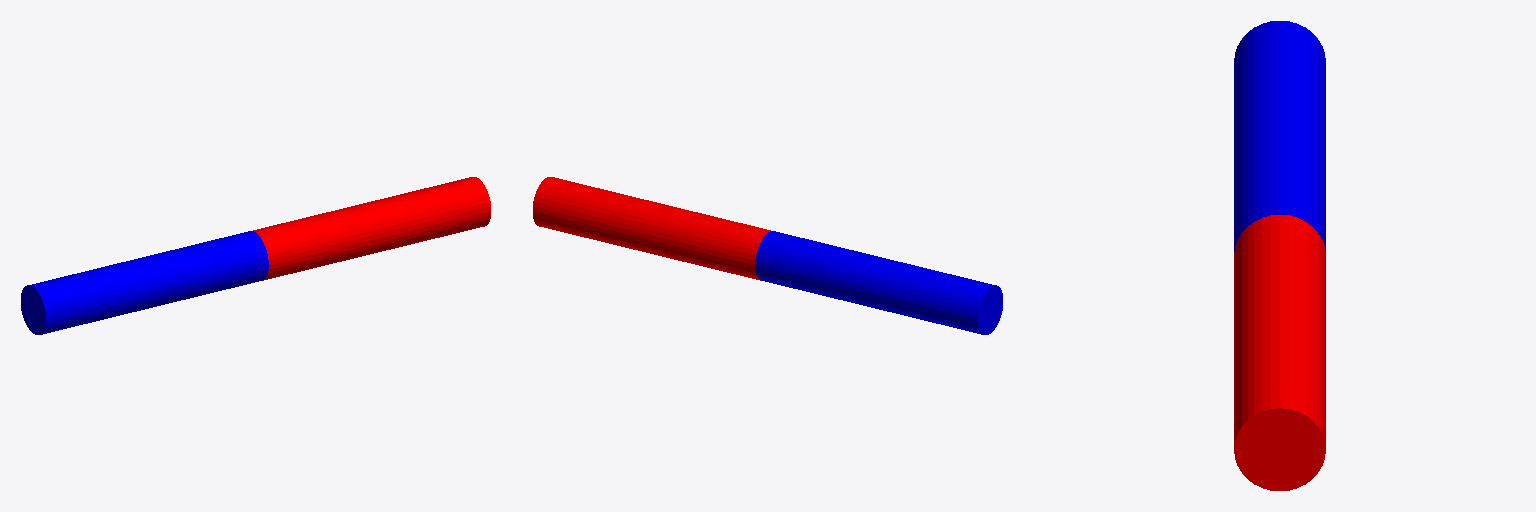
URDF robot description (ball):
<?xml version="1.0"?> 
<robot name="ball">
    <!-- Colors --> 
    <material name="black"> 
        <color rgba="0 0 0 1"/>
    </material>

    <material name="red">
        <color rgba="1 0 0 1"/>
    </material>

    <material name="blue">
        <color rgba="0 0 1 1"/>
    </material>


    <!-- Base Link  of Car --> 
    <link name="base_link">
        <visual> 
            <geometry> 
                <cylinder length="5.0" radius="0.5"/>
            </geometry>
            <origin rpy="0 1.57 0" xyz="-2.5 0 0"/>
            <material name="blue"/>
        </visual>
    </link>

    <link name="child_link1">
        <visual>
            <geometry>
                <cylinder length="5.0" radius="0.5"/>
            </geometry>
            <origin rpy="0 1.57 0" xyz="2.5 0 0"/>
            <material name="red"/>
        </visual>
    </link>

    <joint name="child1_to_base" type="fixed">
        <parent link="base_link"/>
        <child link="child_link1"/>
        <origin xyz="0.0 0.0 0.0"/>
    </joint>

  
</robot>

--- What the picture shows (computed from the rendered views, not written in the file) ---
3 views of the same robot in one strip: view 1: azimuth 30°, elevation 25°; view 2: azimuth 150°, elevation 25°; view 3: azimuth 270°, elevation 25° (orthographic).
Model ball with 2 links and 1 joints (1 fixed), rooted at base_link, posed all joints at 0.
Links seen in each view (by area): view 1: base_link, child_link1; view 2: base_link, child_link1; view 3: child_link1, base_link.
Link boxes in pixels (<box>): base_link: <box>21,231,268,334</box>; child_link1: <box>253,177,490,280</box>; base_link: <box>755,231,1002,334</box>; child_link1: <box>533,177,770,280</box>; child_link1: <box>1234,215,1325,490</box>; base_link: <box>1234,21,1325,251</box>.
Bounding box of the posed robot: 10 × 1 × 1 m (x, y, z).
Geometry: primitives only (box / cylinder / sphere), no mesh files.